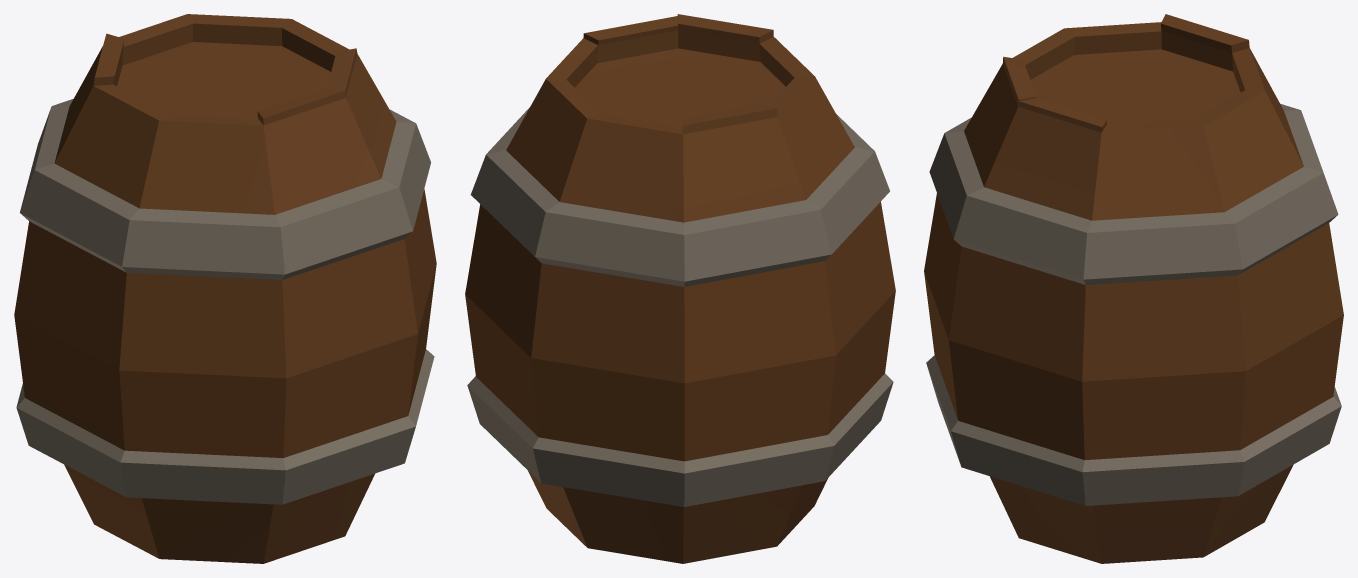
File: Barrel.fbx
The picture shows the model from 3 angles, left to right: view 1: azimuth 30°, elevation 25°; view 2: azimuth 150°, elevation 25°; view 3: azimuth 270°, elevation 25°; orthographic projection. The views are drawn at different scales.
Parts seen in each view (by area): view 1: Barrel; view 2: Barrel; view 3: Barrel.
Part boxes in pixels (x1,y1,x2,y2): Barrel: [14, 14, 436, 563]; Barrel: [465, 14, 895, 563]; Barrel: [924, 14, 1343, 563].
Size of the model in its own units: 1.04 by 1.2 by 1.04.
1 material, 1 textured.
